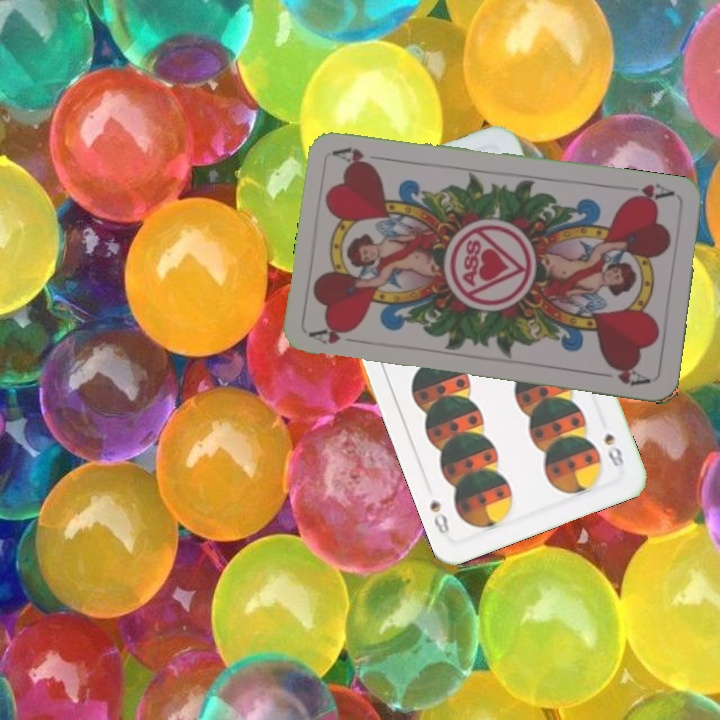HA: (620, 179, 678, 207), (306, 321, 366, 347)
S8: (600, 429, 627, 470)
